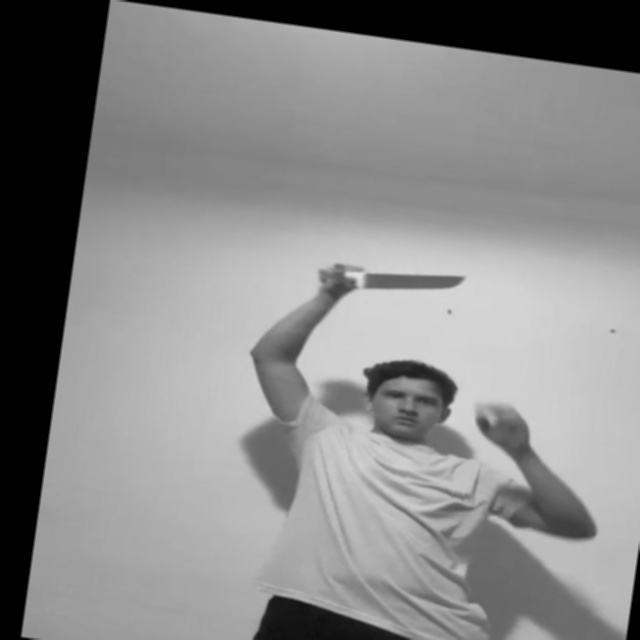Sharp-Object: (358, 259, 469, 302)
